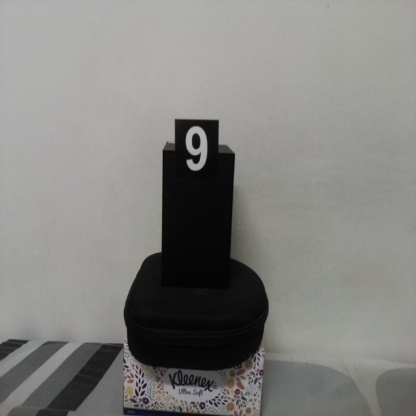id_9: (175, 121, 219, 185)
